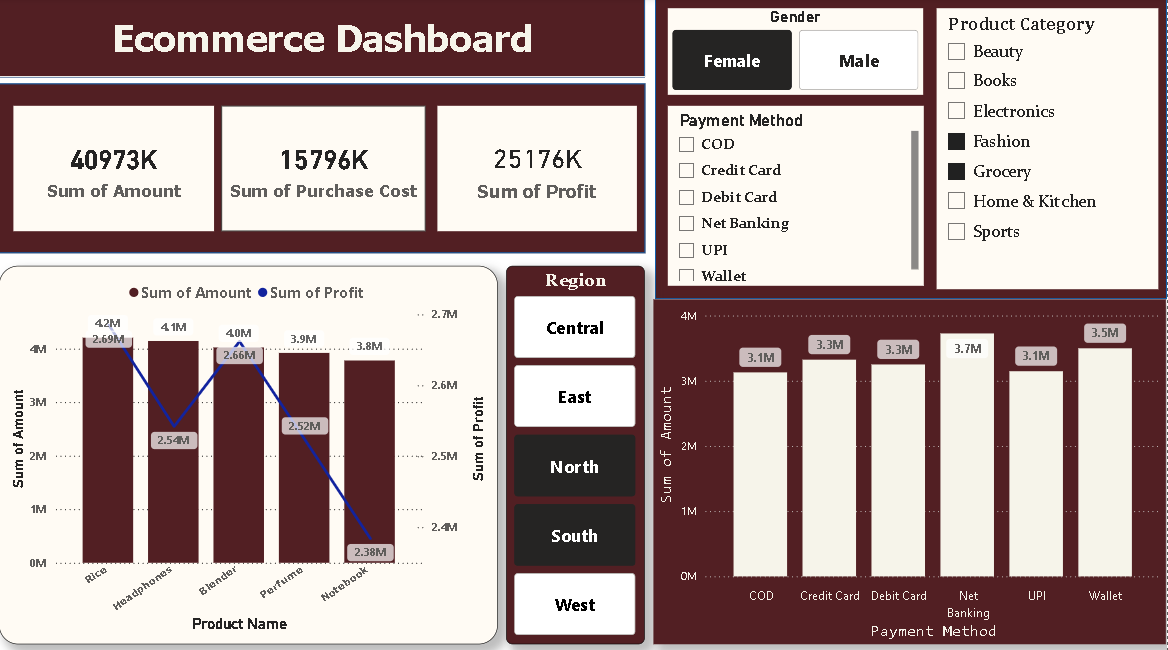

What the dashboard file says about the page in this screenshot:
{"tool":"powerbi","page":{"name":"Dashboard","canvas":[1280,720],"ordinal":0},"visuals":[{"type":"shape","box":[0,0,708.3,88.3],"z":0},{"type":"shape","box":[0,95,708.8,186.2],"z":1000},{"type":"card","fields":{"Values":["Sum(Ecommerce Sales Data.Amount)"]},"box":[15,120,220,137.5],"z":2000},{"type":"card","fields":{"Values":["Sum(Ecommerce Sales Data.Purchase Cost)"]},"box":[243.8,120,223.8,137.5],"z":3000},{"type":"card","fields":{"Values":["Sum(Ecommerce Sales Data.Profit)"]},"box":[480,120,218.8,137.5],"z":4000},{"type":"lineClusteredColumnComboChart","fields":{"Category":["Ecommerce Sales Data.Product Name"],"Y":["Sum(Ecommerce Sales Data.Amount)"],"Y2":["Sum(Ecommerce Sales Data.Profit)"]},"box":[0,295,546.7,415],"z":5000},{"type":"shape","box":[718.8,0,561.2,331.2],"z":6000},{"type":"slicer","fields":{"Values":["Ecommerce Sales Data.Product Category"]},"box":[1028.3,11.7,243.3,308.3],"z":7000},{"type":"advancedSlicerVisual","fields":{"Values":["Ecommerce Sales Data.Gender"]},"box":[733.3,11.7,280,95],"z":8000},{"type":"slicer","fields":{"Values":["Ecommerce Sales Data.Payment Method"]},"box":[733.3,120,280,196.7],"z":9000},{"type":"advancedSlicerVisual","fields":{"Values":["Ecommerce Sales Data.Region"]},"box":[556.7,295,151.7,415],"z":10000},{"type":"lineClusteredColumnComboChart","fields":{"Y":["Sum(Ecommerce Sales Data.Amount)"],"Category":["Ecommerce Sales Data.Payment Method","Ecommerce Sales Data.City"]},"box":[718.3,331.7,561.7,378.3],"z":11000}]}

Visuals, with their boxes in screenshot pixels (x1, y1, x2, y2), scaled from the page's 1280x720 canvas onto the 1168x650 screenshot:
shape: {"x1": 0, "y1": 0, "x2": 646, "y2": 80}
shape: {"x1": 0, "y1": 86, "x2": 647, "y2": 254}
card - Sum(Ecommerce Sales Data.Amount): {"x1": 14, "y1": 108, "x2": 214, "y2": 232}
card - Sum(Ecommerce Sales Data.Purchase Cost): {"x1": 222, "y1": 108, "x2": 427, "y2": 232}
card - Sum(Ecommerce Sales Data.Profit): {"x1": 438, "y1": 108, "x2": 638, "y2": 232}
lineClusteredColumnComboChart - Ecommerce Sales Data.Product Name x Sum(Ecommerce Sales Data.Amount): {"x1": 0, "y1": 266, "x2": 499, "y2": 641}
shape: {"x1": 656, "y1": 0, "x2": 1167, "y2": 299}
slicer - Ecommerce Sales Data.Product Category: {"x1": 938, "y1": 11, "x2": 1160, "y2": 289}
advancedSlicerVisual - Ecommerce Sales Data.Gender: {"x1": 669, "y1": 11, "x2": 925, "y2": 96}
slicer - Ecommerce Sales Data.Payment Method: {"x1": 669, "y1": 108, "x2": 925, "y2": 286}
advancedSlicerVisual - Ecommerce Sales Data.Region: {"x1": 508, "y1": 266, "x2": 646, "y2": 641}
lineClusteredColumnComboChart - Sum(Ecommerce Sales Data.Amount) x Ecommerce Sales Data.Payment Method: {"x1": 655, "y1": 299, "x2": 1167, "y2": 641}
